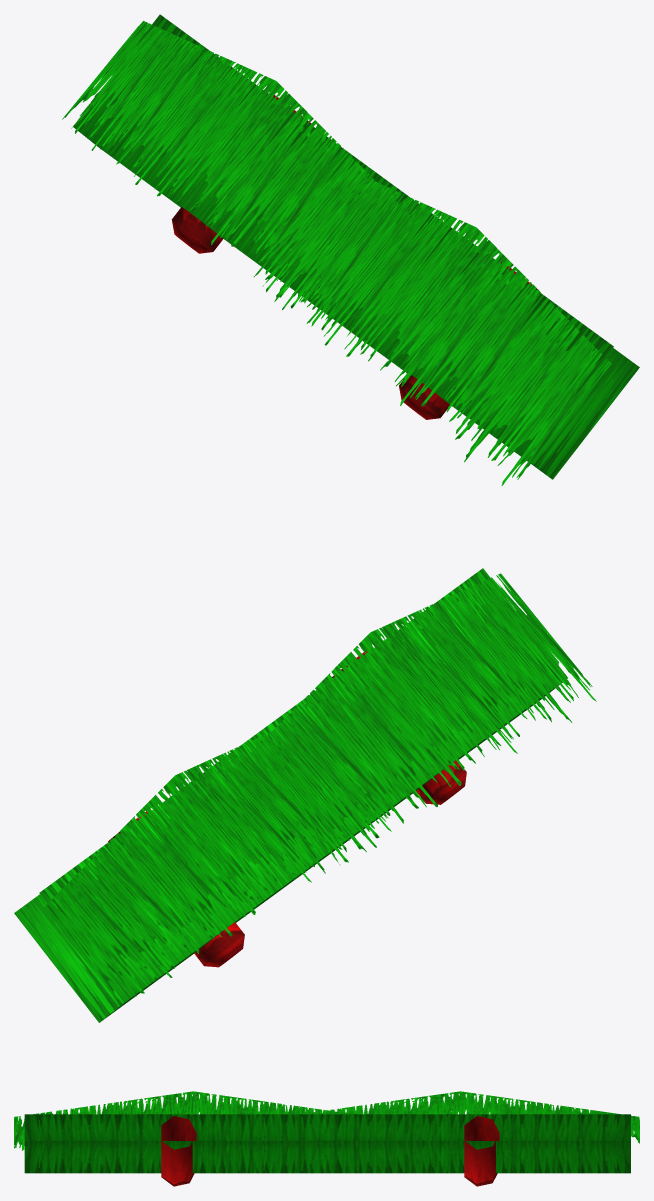
File: RoofBottom01.fbx
3 renders of one model, top to bottom at view 1: azimuth 30°, elevation 25°; view 2: azimuth 150°, elevation 25°; view 3: azimuth 270°, elevation 25°, orthographic. The views are drawn at different scales.
Parts seen in each view (by area): view 1: RoofBottom01_LOD0; view 2: RoofBottom01_LOD0; view 3: RoofBottom01_LOD0.
Boxes of the visible parts, x1,y1,x2,y2 form: RoofBottom01_LOD0: [62, 14, 639, 485]; RoofBottom01_LOD0: [14, 568, 596, 1022]; RoofBottom01_LOD0: [14, 1091, 639, 1186].
Size of what is drawn, in the model's own units: 0.4834 by 0.4356 by 2.07.
